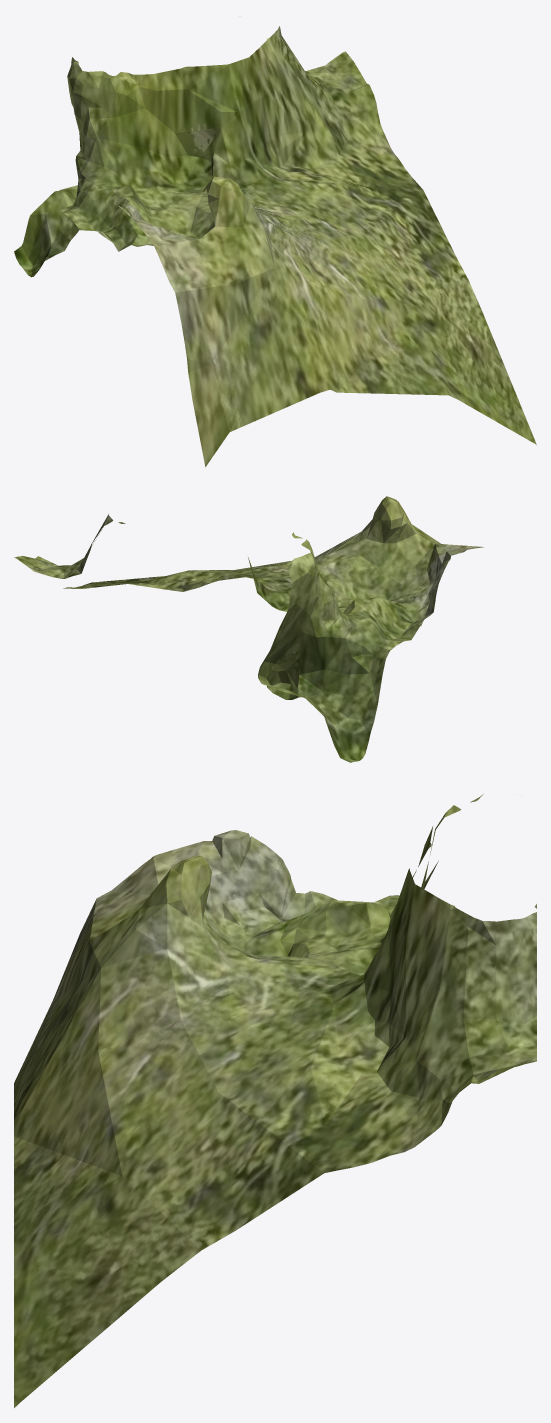
The picture shows the model from 3 angles, top to bottom: view 1: azimuth 30°, elevation 25°; view 2: azimuth 150°, elevation 25°; view 3: azimuth 270°, elevation 25°; orthographic projection. The views are drawn at different scales.
Size of the model in its own units: 2.95 by 2.68 by 2.95.
Materials: 3 (3 with a texture image).
